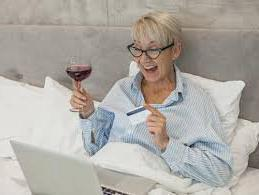Drunk: (135, 38, 168, 81)
